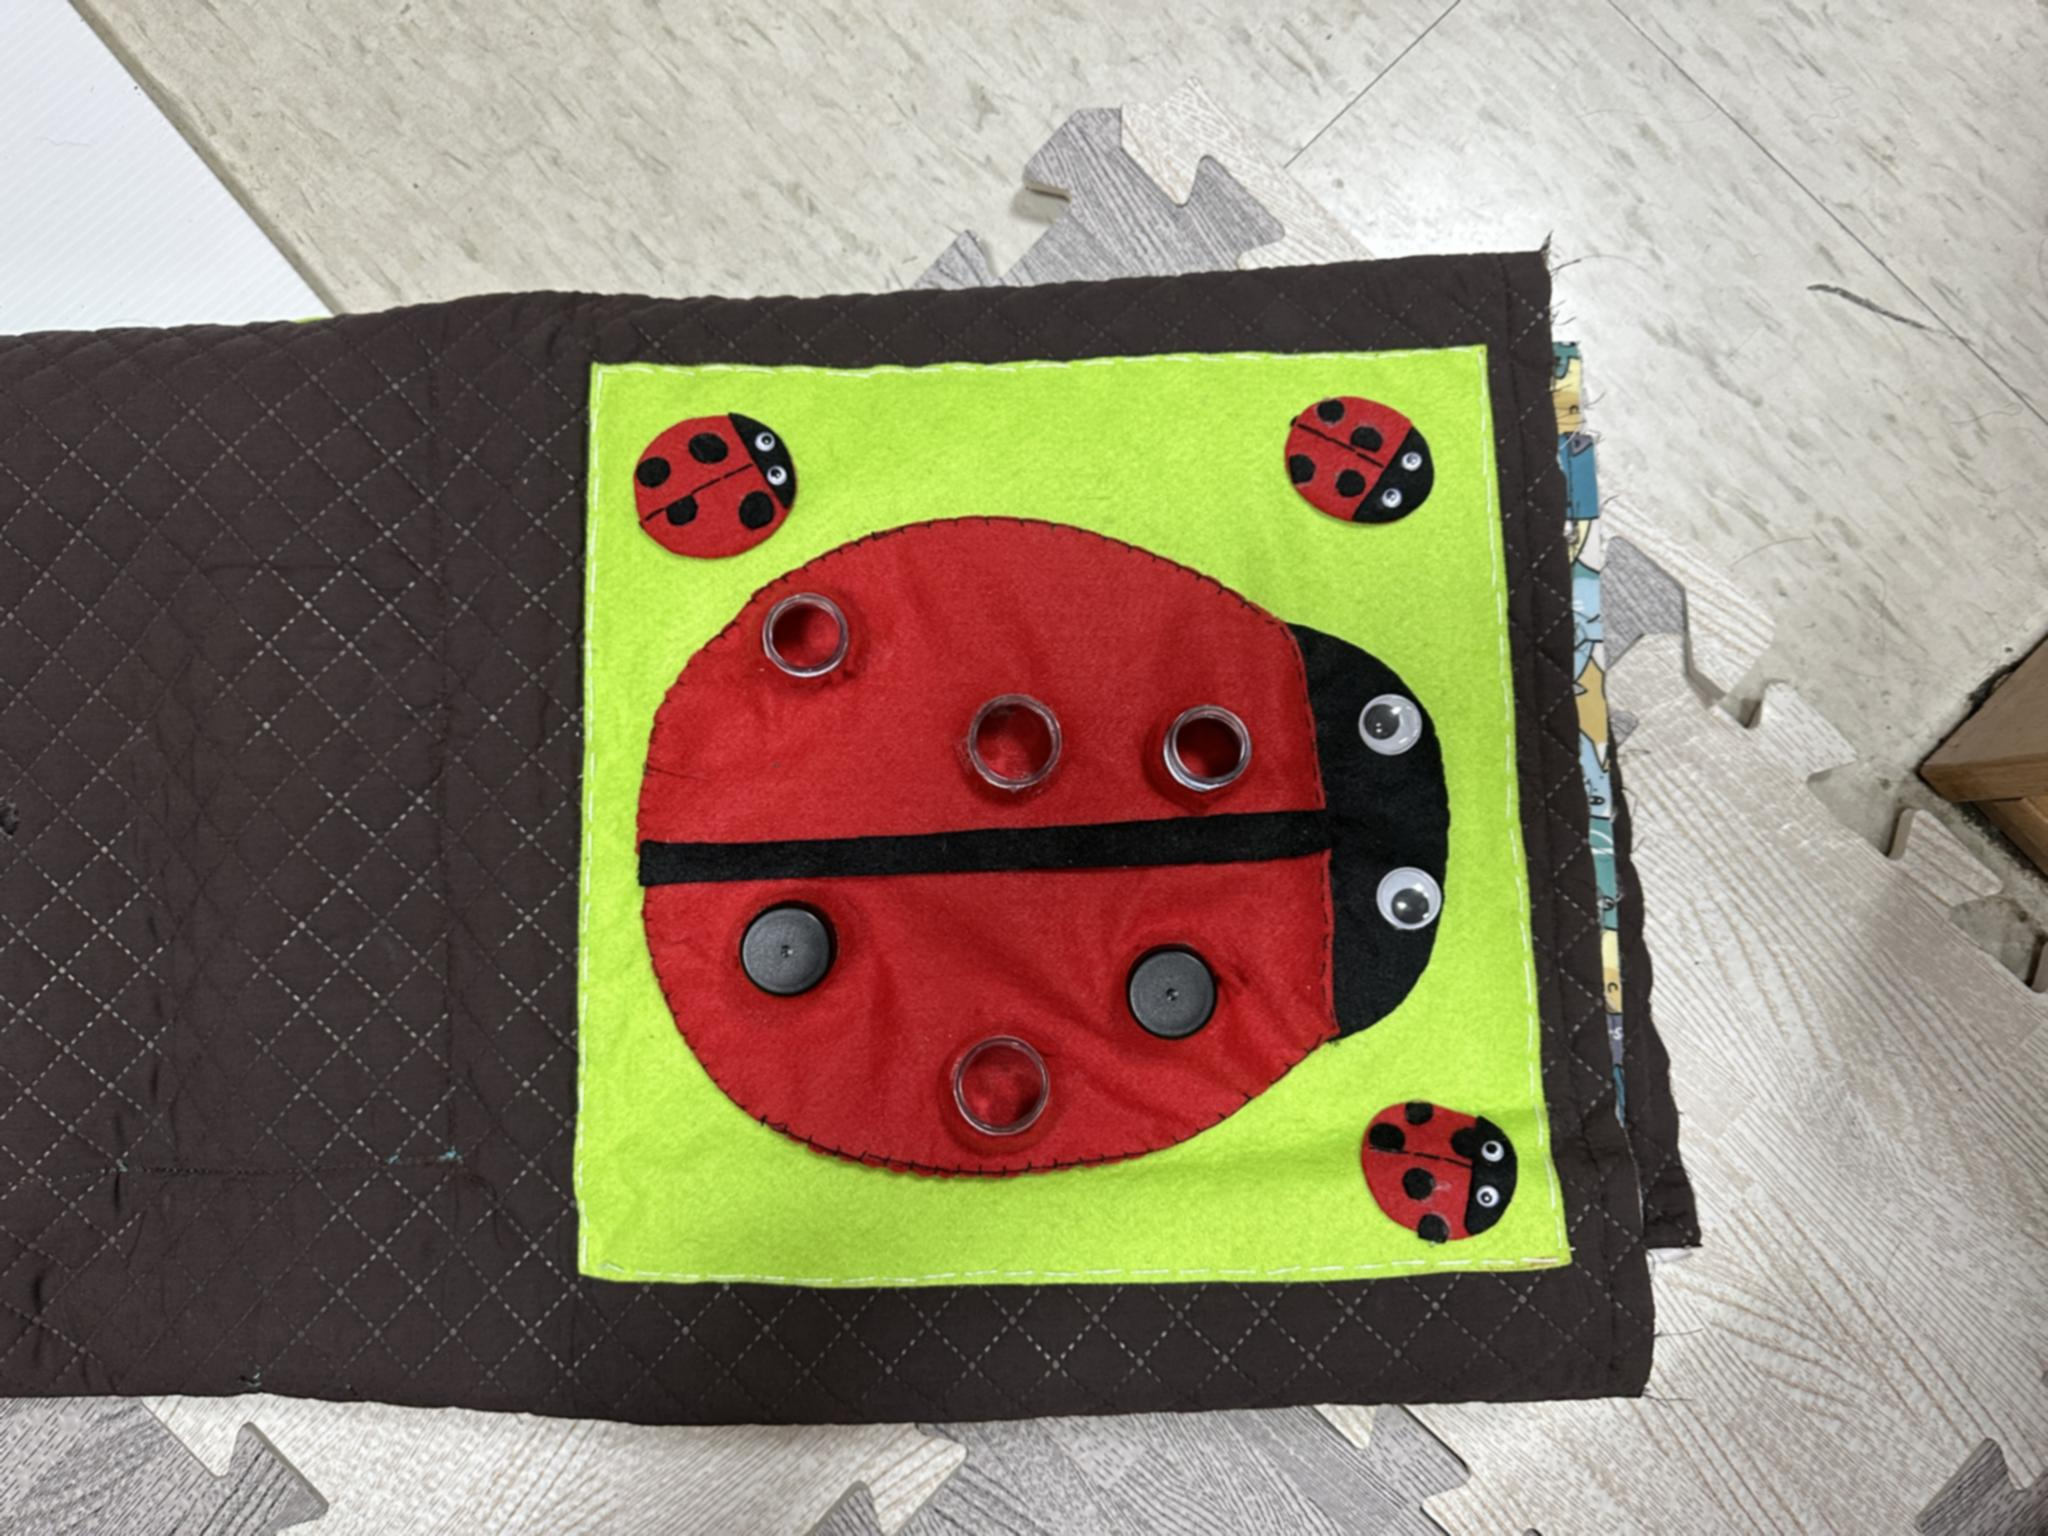cap_ok: (1093, 923, 1258, 1071), (721, 879, 856, 1018)
